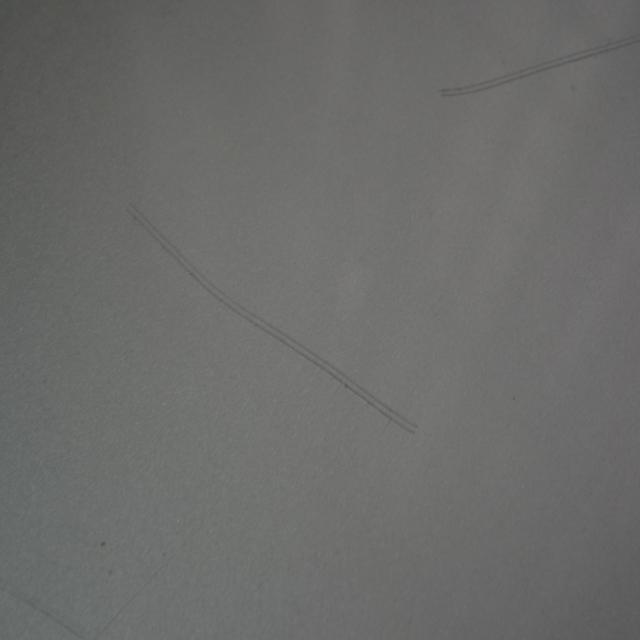scratch: (117, 185, 424, 450), (432, 31, 640, 103)
